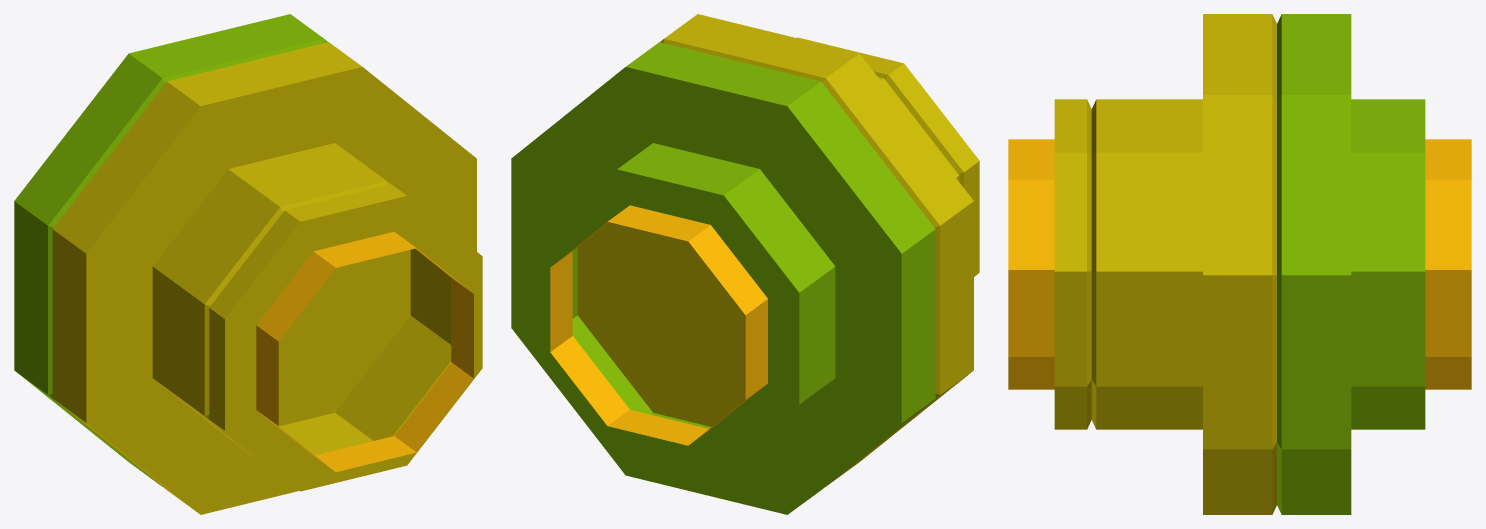
The model's file is mpe_freewheel.dae.
The picture shows the model from 3 angles, left to right: view 1: azimuth 30°, elevation 25°; view 2: azimuth 150°, elevation 25°; view 3: azimuth 270°, elevation 25°; orthographic projection. The views are drawn at different scales.
Parts seen in each view (by area): view 1: freewheel; view 2: freewheel; view 3: freewheel.
Boxes of the visible parts, x1=… form: freewheel: x1=14, y1=14, x2=482, y2=514; freewheel: x1=511, y1=14, x2=979, y2=514; freewheel: x1=1008, y1=14, x2=1471, y2=514.
Size of the model in its own units: 0.25 by 0.25 by 0.25.
